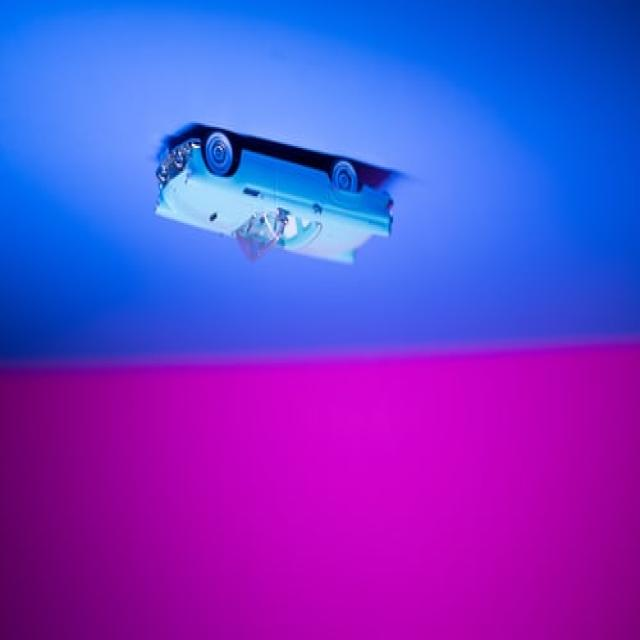Car: (153, 129, 394, 267)
